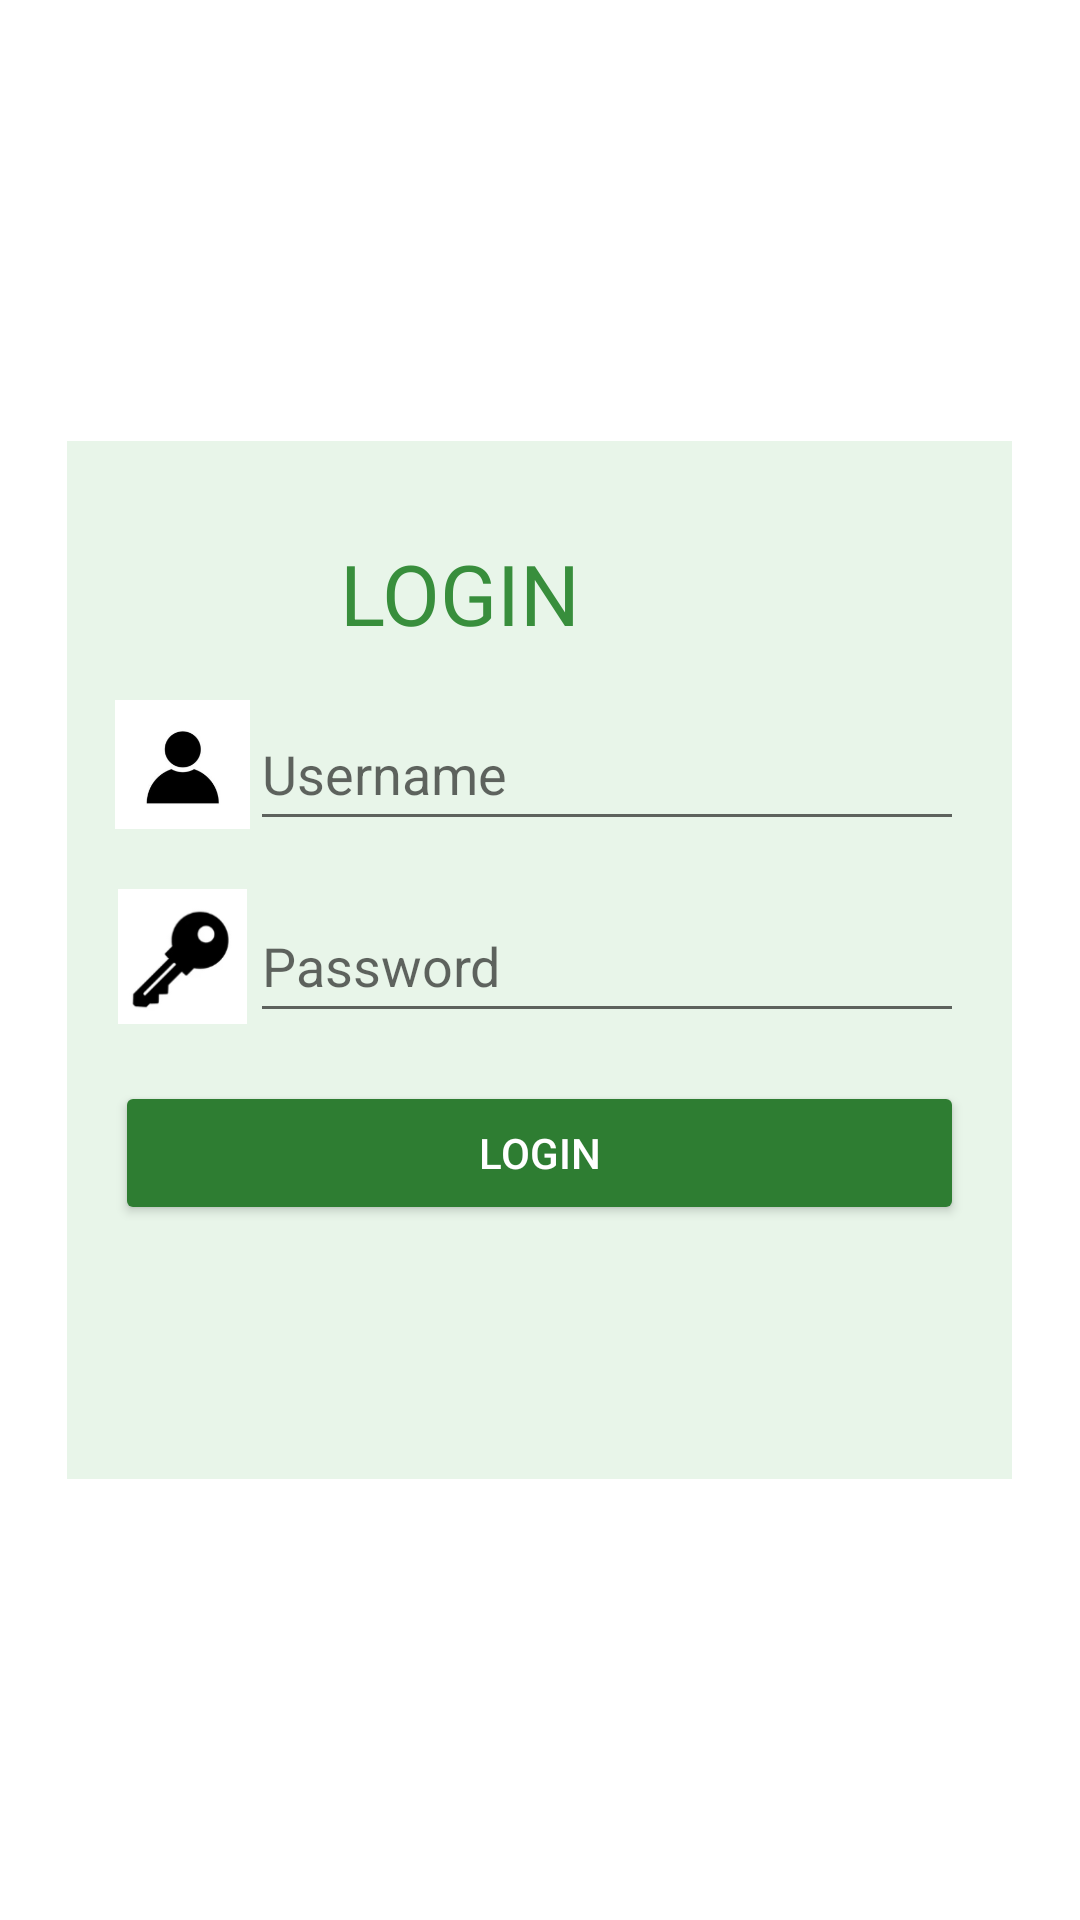

Where icons sit on this 1080x1920 app screen, as (x1, y1, x2, y2):
usericon: (146, 731, 219, 804)
